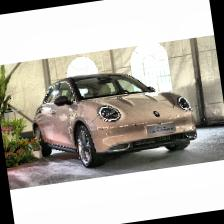EV: (26, 57, 201, 177)
